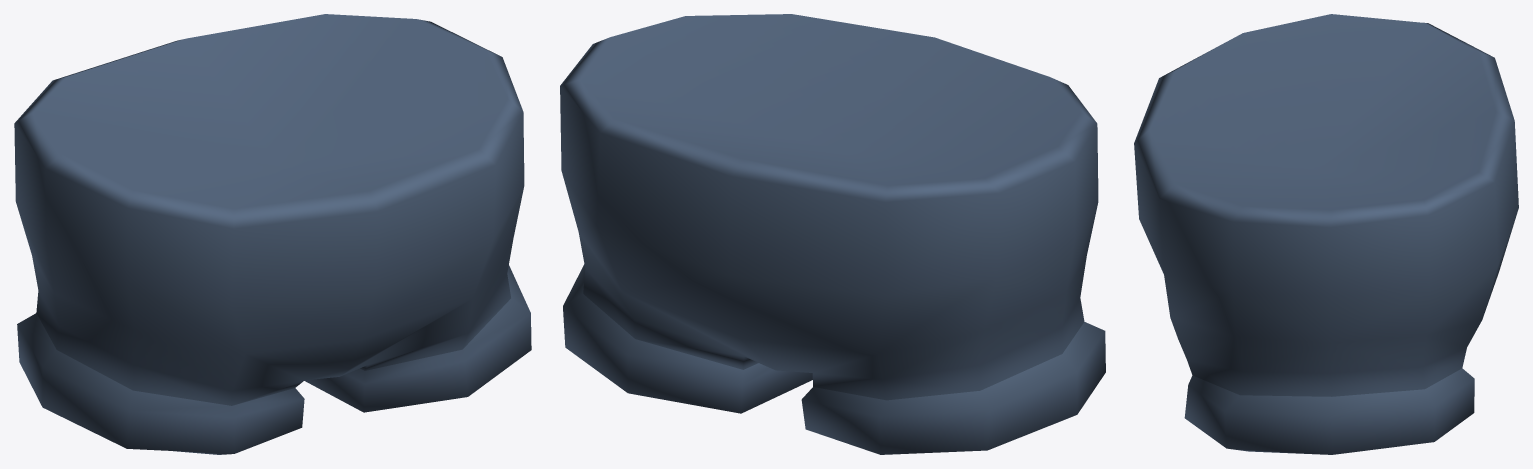
File: Bottom_3.fbx
3 views of the same model, side by side, from view 1: azimuth 30°, elevation 25°; view 2: azimuth 150°, elevation 25°; view 3: azimuth 270°, elevation 25° (orthographic). The views are drawn at different scales.
Visible parts, largest first — view 1: Bottom_3; view 2: Bottom_3; view 3: Bottom_3.
Part boxes in pixels (left/top/right/bottom): Bottom_3: left=14, top=14, right=531, bottom=454; Bottom_3: left=560, top=14, right=1105, bottom=454; Bottom_3: left=1134, top=14, right=1518, bottom=454.
Size of the model in its own units: 38.94 by 22.89 by 29.68.
